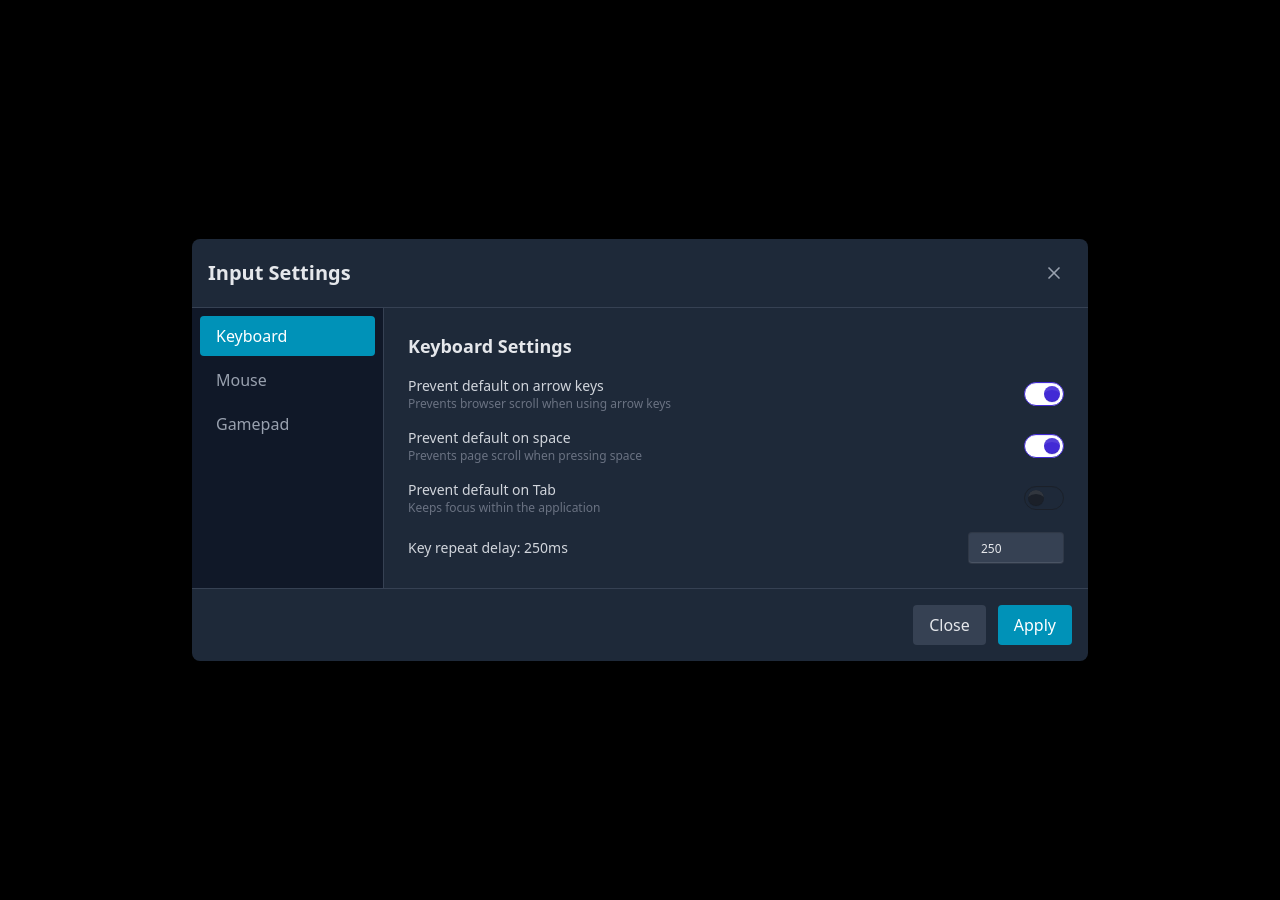
Test: InputModal › switches to gamepad settings when gamepad tab is clicked
What coordinates should you click on to do the following:
click the button "Gamepad"
I would click on:
 (288, 424)
Its box is 200,404 -> 375,444.
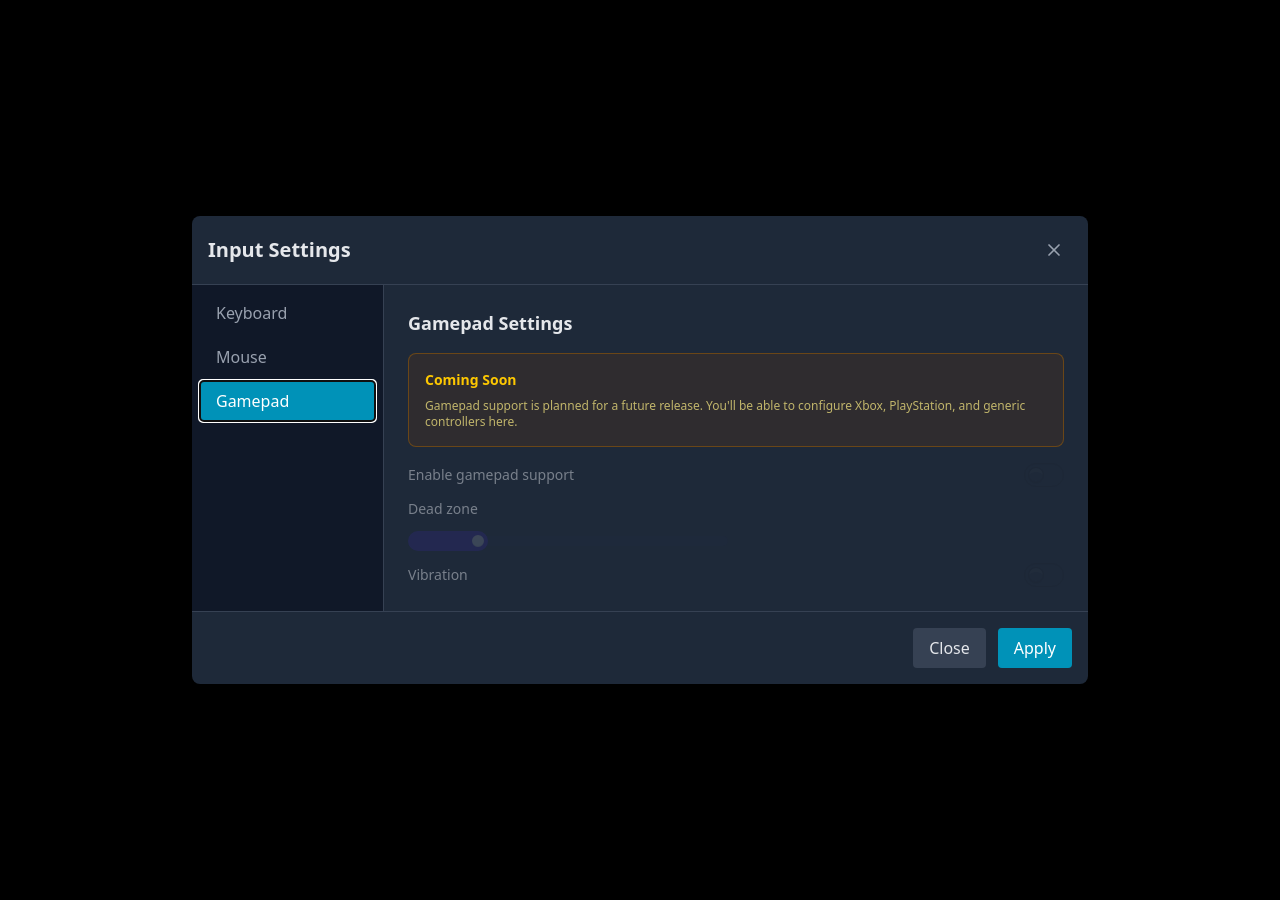
Result: the heading "Gamepad Settings" is shown at 408,311 -> 572,335
Result: the heading "Keyboard Settings" is gone
